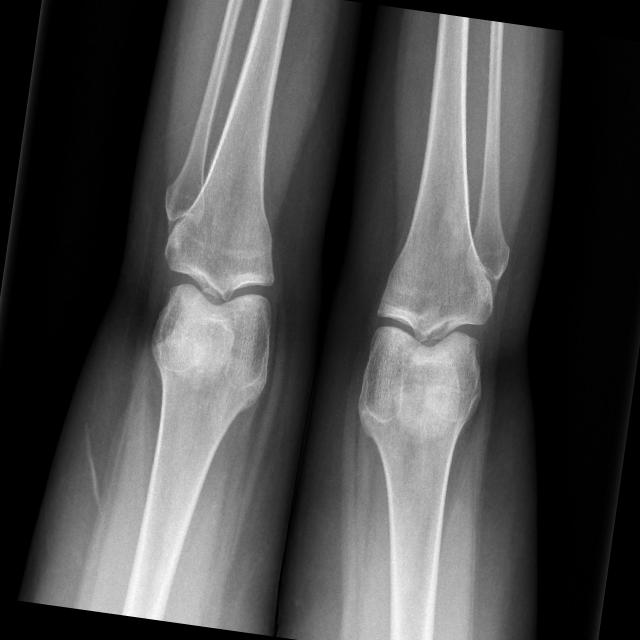Knee: (140, 216, 296, 376), (362, 254, 501, 410)
